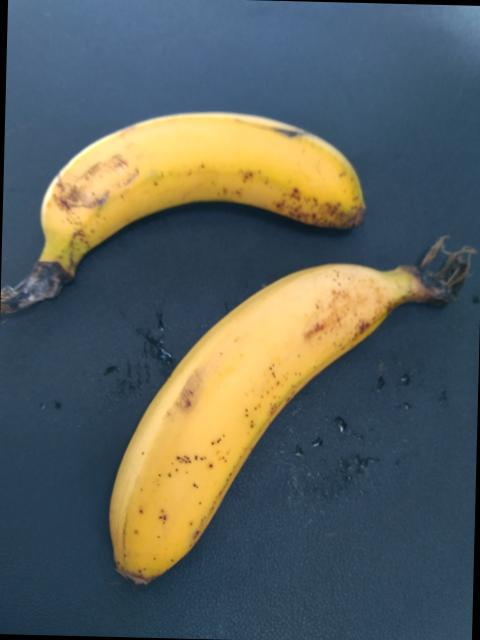ripe: (95, 250, 410, 588), (31, 92, 388, 264)
